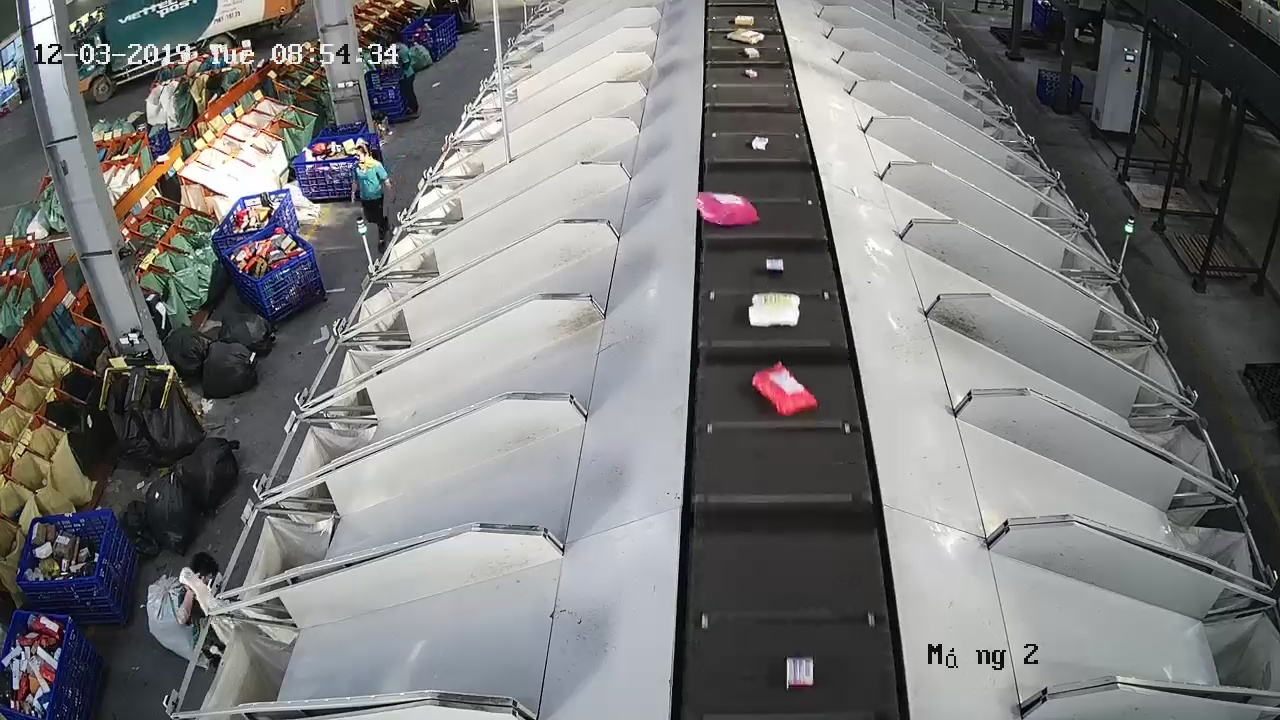parcel: (750, 359, 820, 417), (695, 190, 762, 228), (747, 291, 802, 328), (784, 654, 816, 690), (764, 256, 786, 274), (750, 135, 770, 152)
